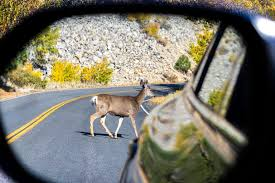deer: (90, 78, 158, 137)
